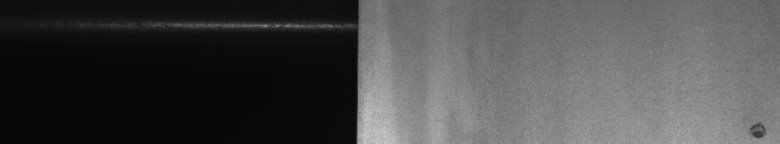fi: (740, 116, 772, 136)
